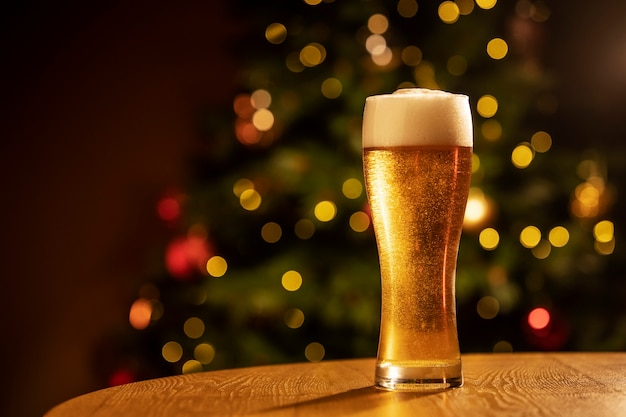alcohol: (360, 87, 474, 393)
